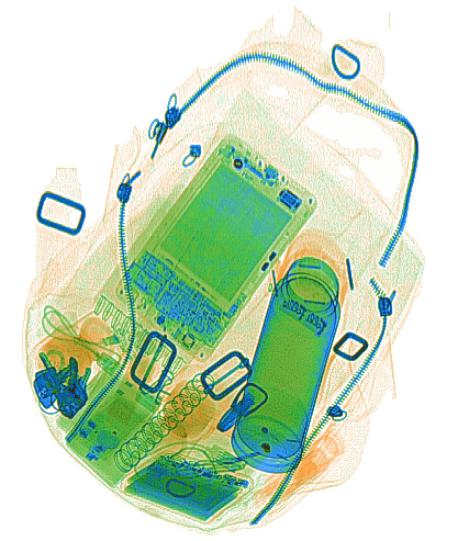seal: (38, 318, 118, 394)
